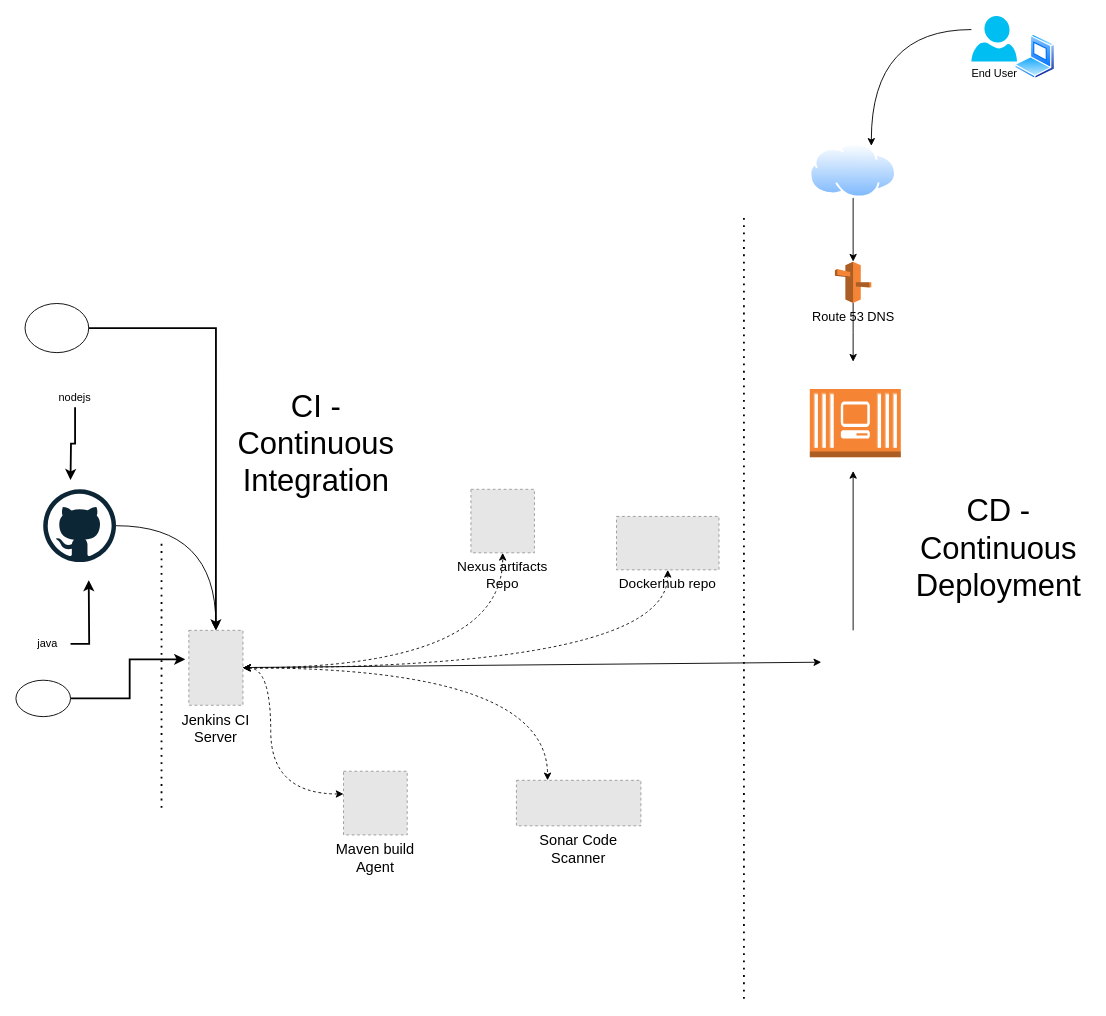
This 1106x1016 diagram has some shape labels left out. Grey dashed boxes stand in for pictures. The centre of each missing label's shape, as x and y in pixels:
Internet: the point at 852,170
maven: the point at 43,698
npm: the point at 56,328
source code repository: the point at 79,525
